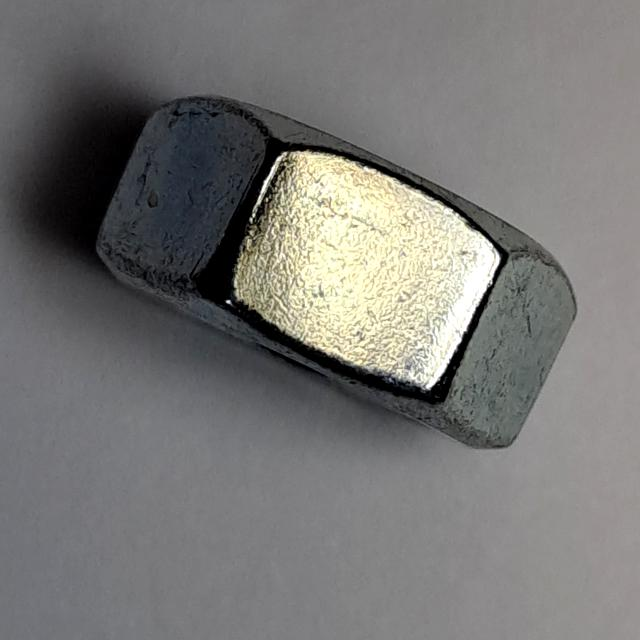Side_Excellent: (85, 81, 591, 466)
